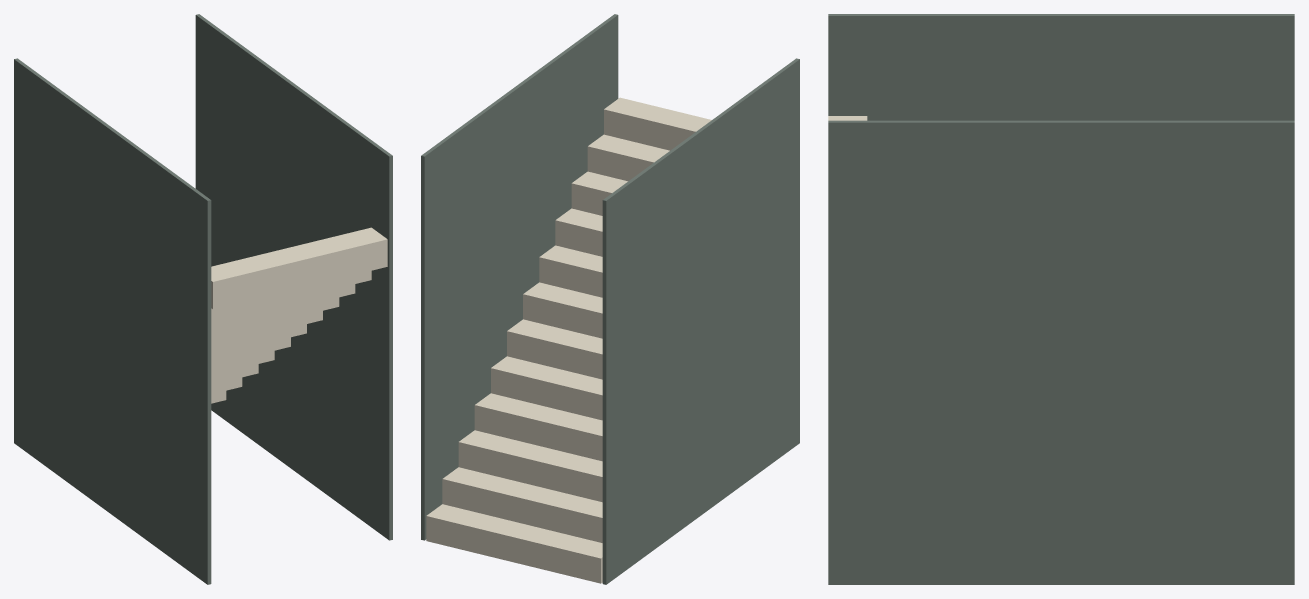
File: b-stairs.glb
The picture shows the model from 3 angles, left to right: view 1: azimuth 30°, elevation 25°; view 2: azimuth 150°, elevation 25°; view 3: azimuth 270°, elevation 25°; orthographic projection. The views are drawn at different scales.
Visible parts, largest first — view 1: b-stairs; view 2: b-stairs; view 3: b-stairs.
Part boxes in pixels (<box>): b-stairs: <box>14,14,392,584</box>; b-stairs: <box>421,14,799,584</box>; b-stairs: <box>828,14,1294,584</box>.
Bounding box in the file's own units: 2.12 × 4.2 × 3.84.
